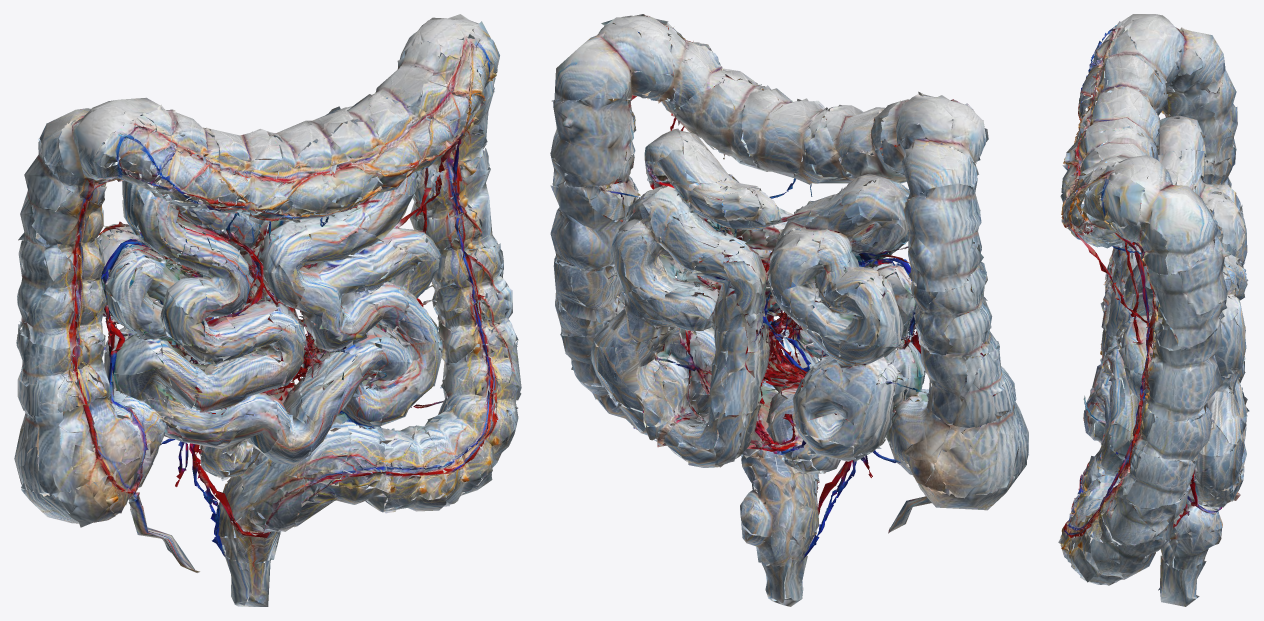
Rendered from intestine.glb.
3 views of the same model, side by side, from view 1: azimuth 30°, elevation 25°; view 2: azimuth 150°, elevation 25°; view 3: azimuth 270°, elevation 25° (orthographic). The views are drawn at different scales.
Parts seen in each view (by area): view 1: Mesh_0; view 2: Mesh_0; view 3: Mesh_0.
Part boxes in pixels (x1,y1,x2,y2): Mesh_0: [14, 14, 521, 606]; Mesh_0: [550, 14, 1028, 606]; Mesh_0: [1058, 14, 1249, 606].
Bounding box in the file's own units: 1.73 × 1.91 × 0.6324.
1 material, 1 textured.
